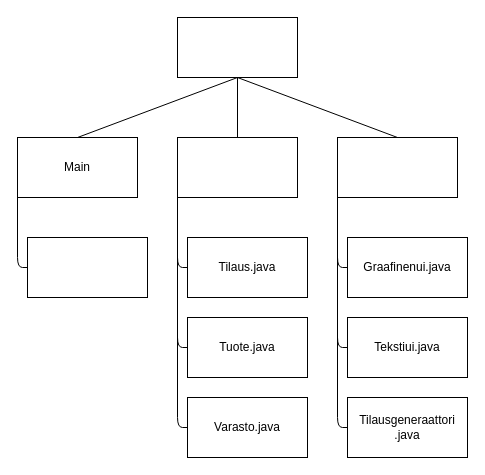
This 485x475 diagram has some shape labels left out. The shapes that lost their labels are listed below. From the top down, each one's box as (x1, y1, x2, y2) in pixels, then its label:
(176, 16, 298, 78): Varastopeli.juuri
(176, 136, 298, 198): Sovelluslogiikka
(336, 136, 458, 198): ui
(26, 236, 148, 298): Varastopeli.java
